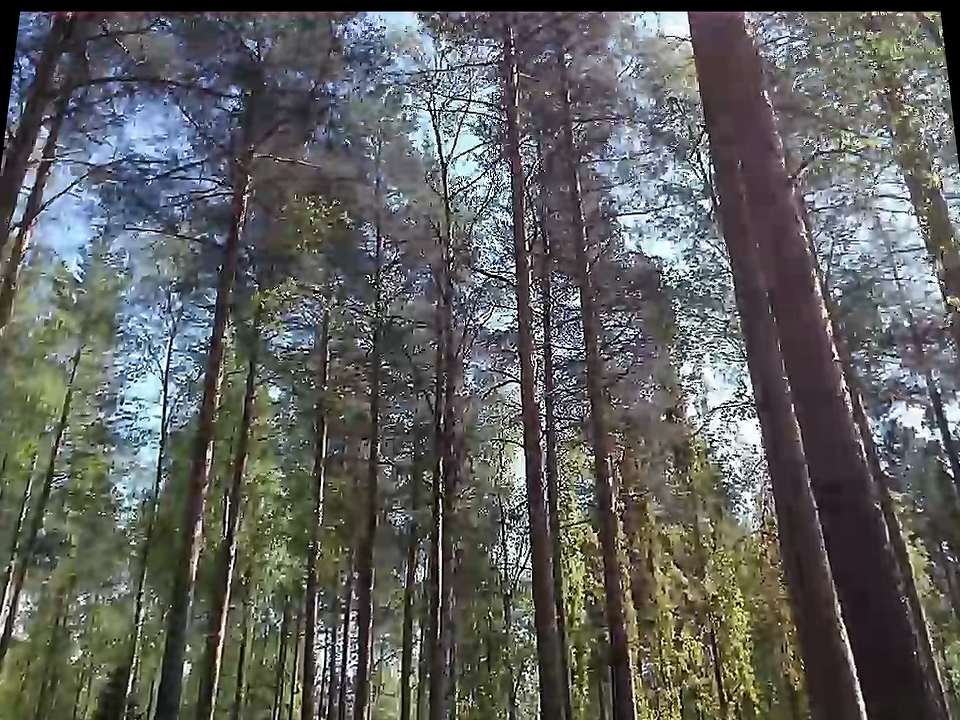branch: (111, 216, 230, 253), (253, 145, 332, 178), (592, 193, 673, 223), (585, 167, 639, 195), (573, 112, 653, 129), (586, 181, 631, 210), (481, 425, 525, 453), (582, 153, 645, 165)
trunk: (524, 515, 574, 716), (514, 359, 566, 527), (510, 203, 544, 374)
